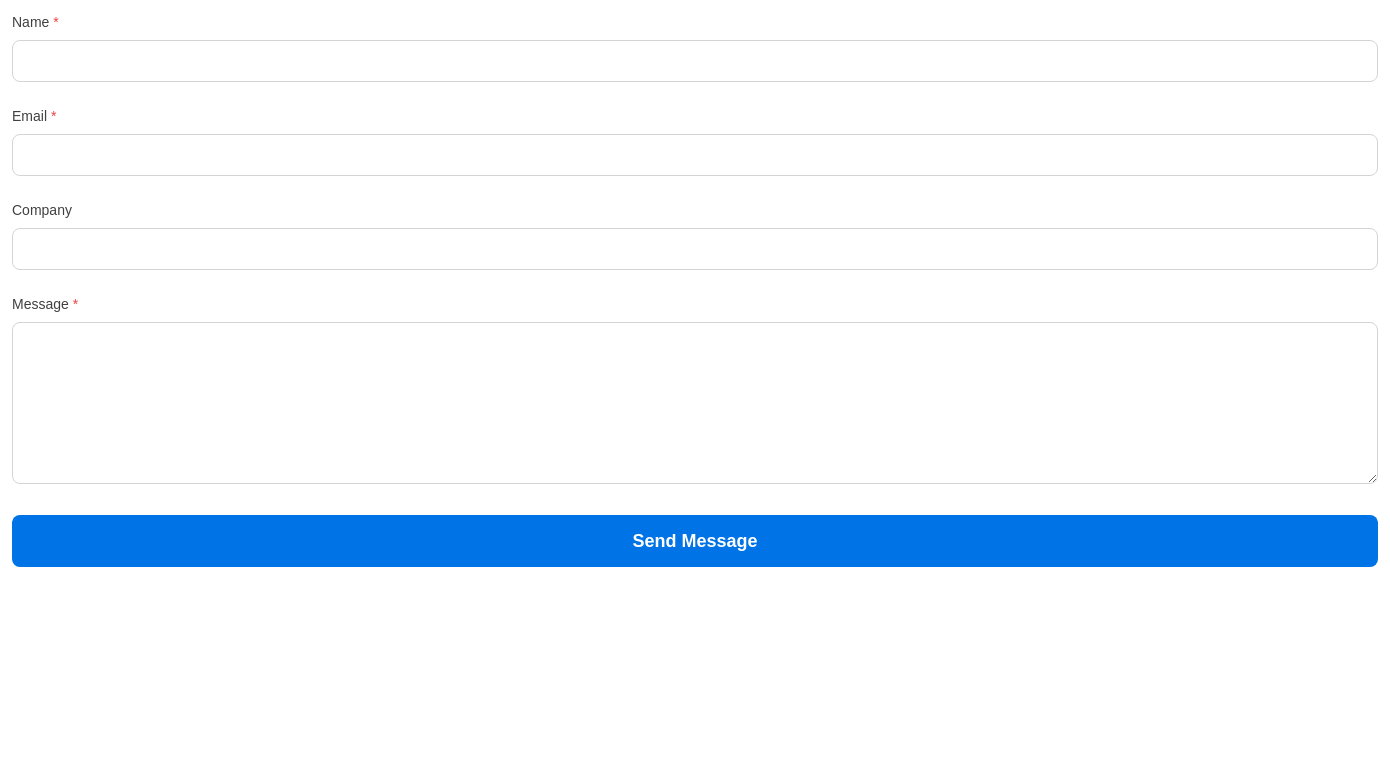
Test: ContactForm Component › Form Validation › should validate email format
Type "invalid-email" into the field labelled "Email *".
click(695, 155); type("invalid-email")  # box [12,134,1378,176]
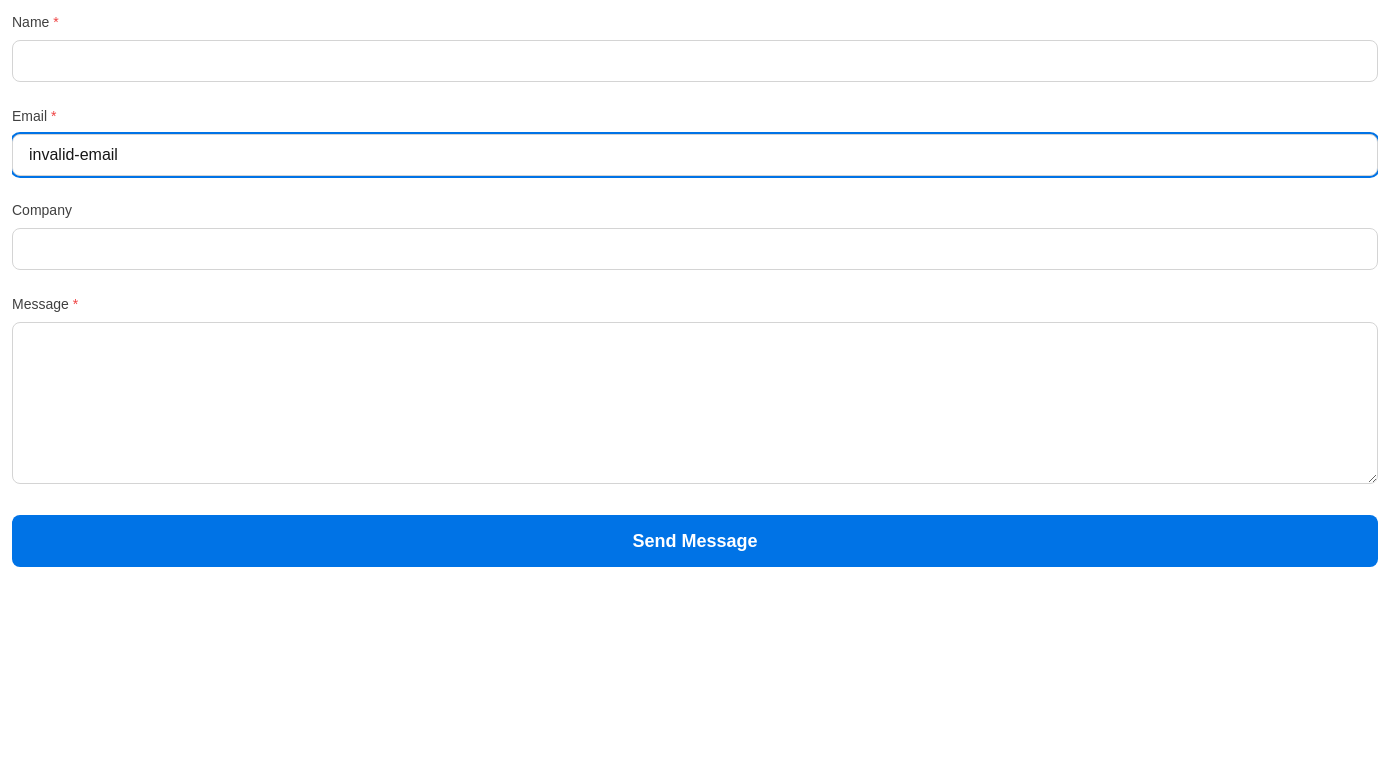
Click the button "Send Message".
click(695, 541)  # box [12,515,1378,567]
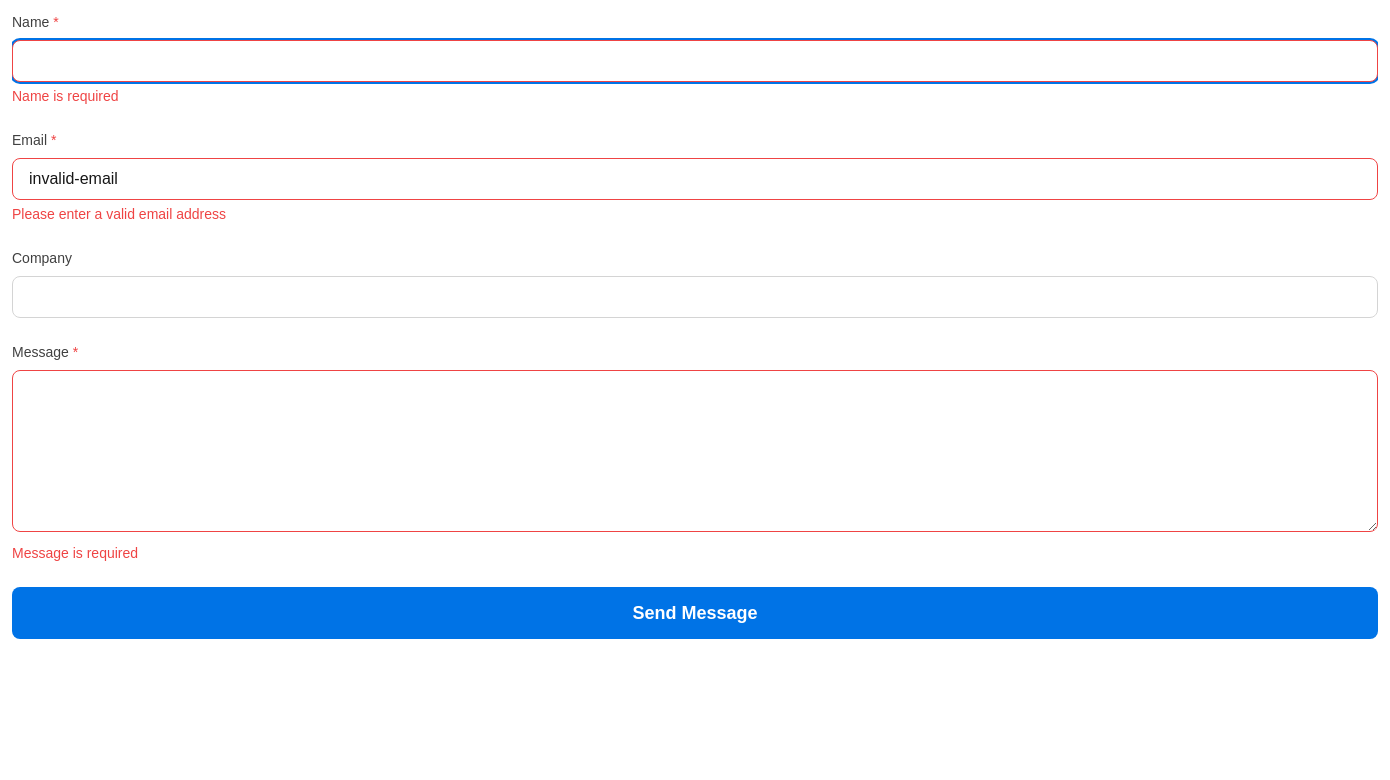
expect the text "Please enter a valid email address" is shown: met, box [12,206,226,222]
